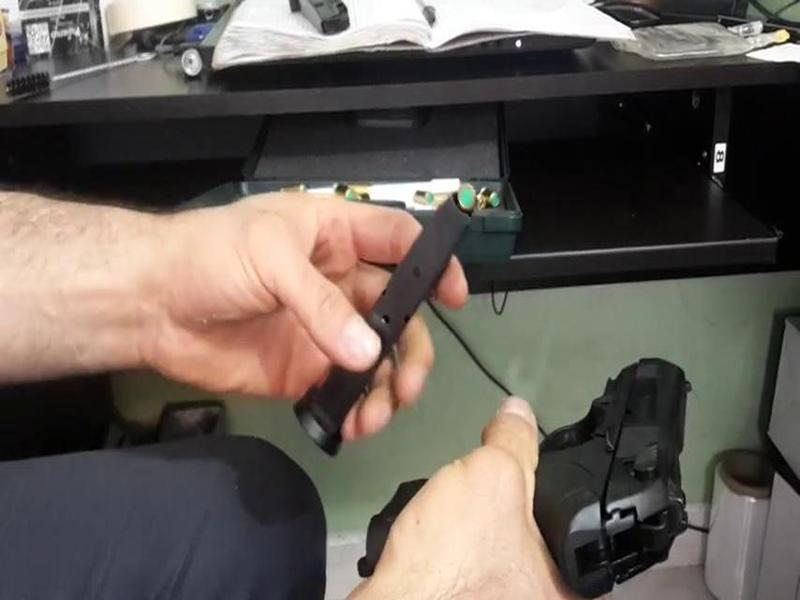Pistola: (362, 357, 701, 598)
